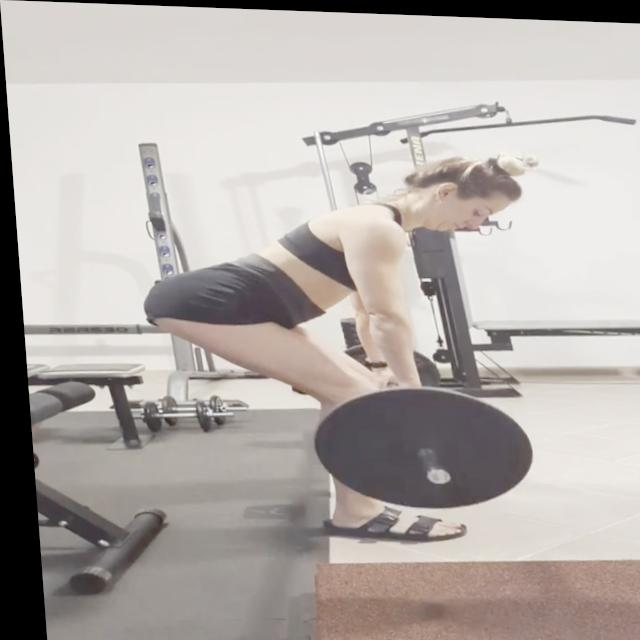barbell: (303, 379, 534, 513)
